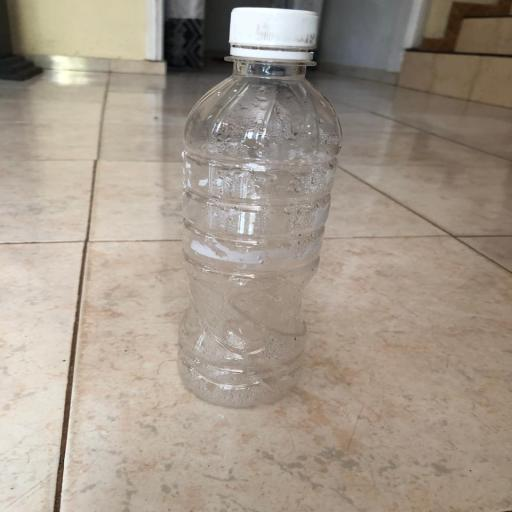waste: (168, 3, 347, 407)
